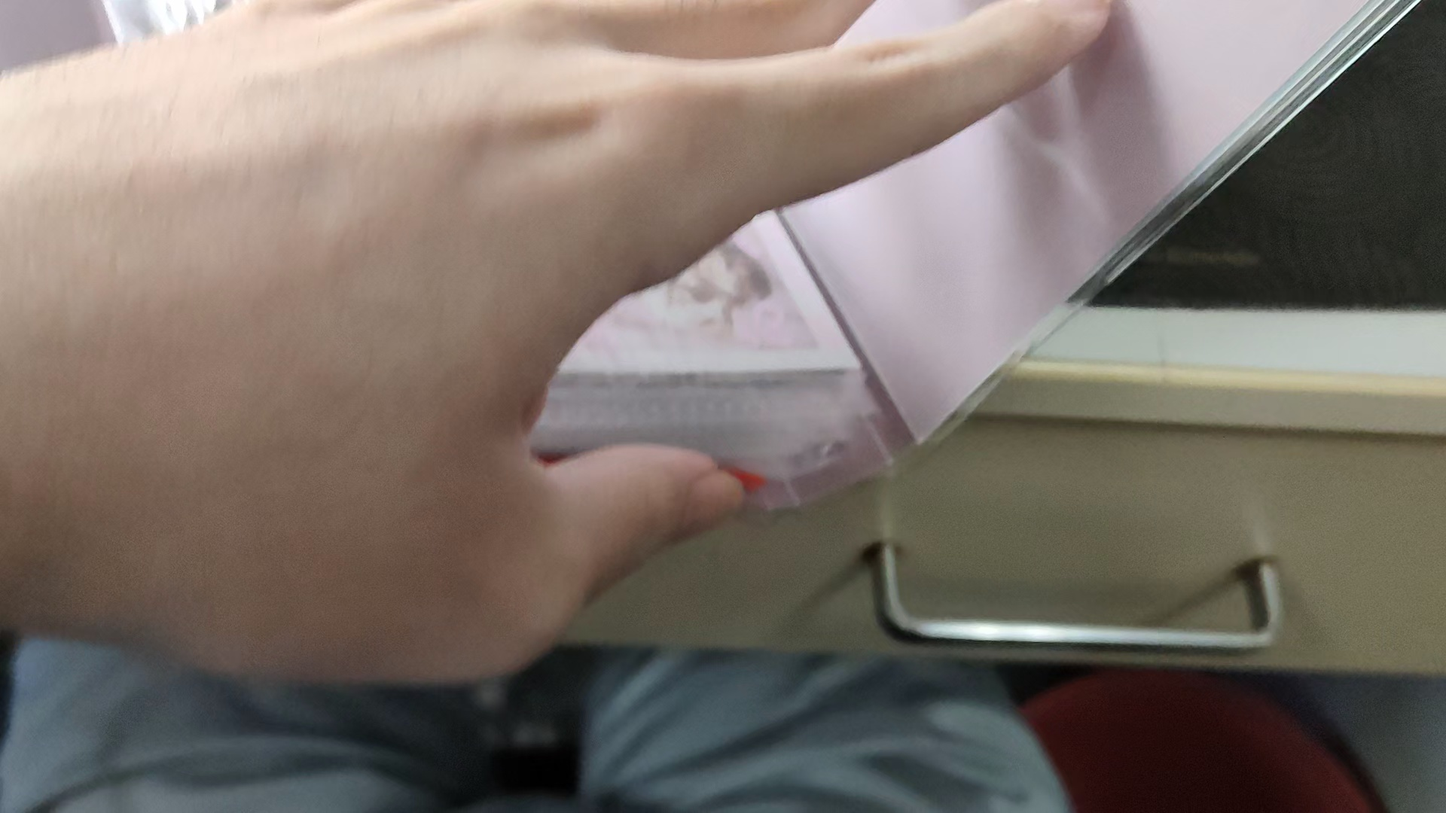Photo_book: (52, 0, 1446, 510)
